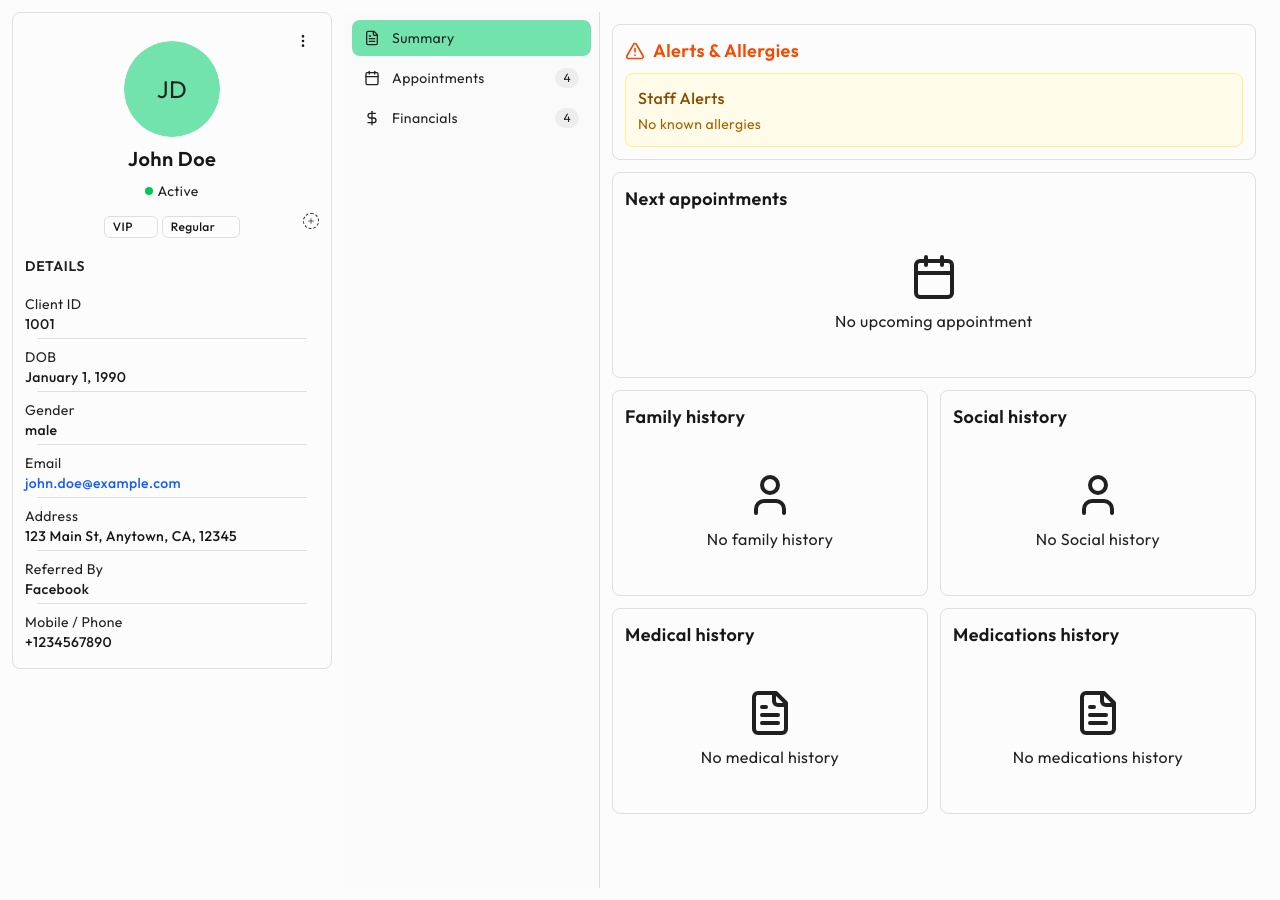
ClientProfile Delete Functionality › shows dropdown menu when three-dots button is clicked
The image size is (1280, 900).
What coordinates should you click on to do the following:
click the 1st button
I would click on:
 (303, 41)
Its box is [287,25,319,57].
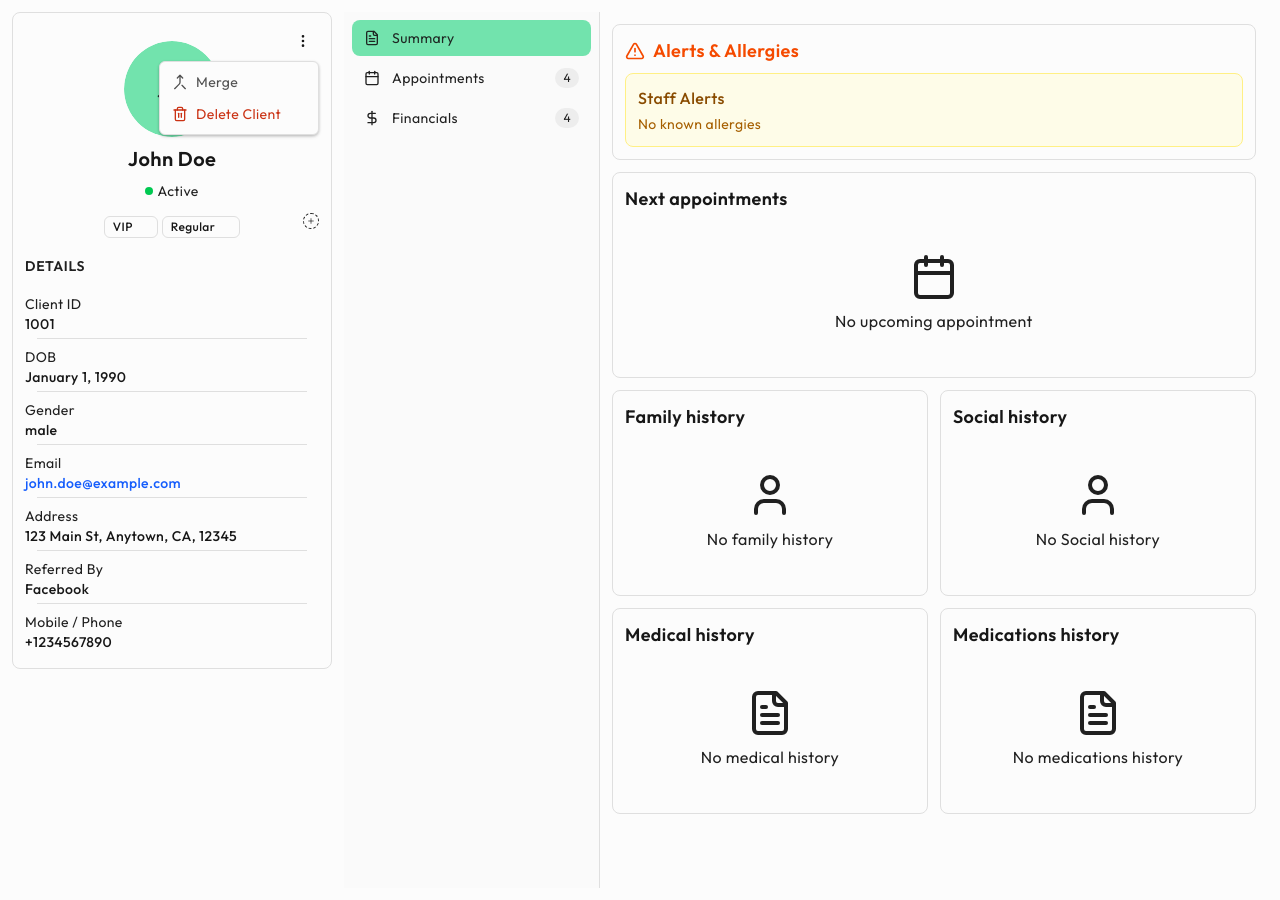
Expected: the menu item "Merge" is shown, [172,73,238,91]
Expected: the menu item "Delete Client" is shown, [172,105,281,123]
